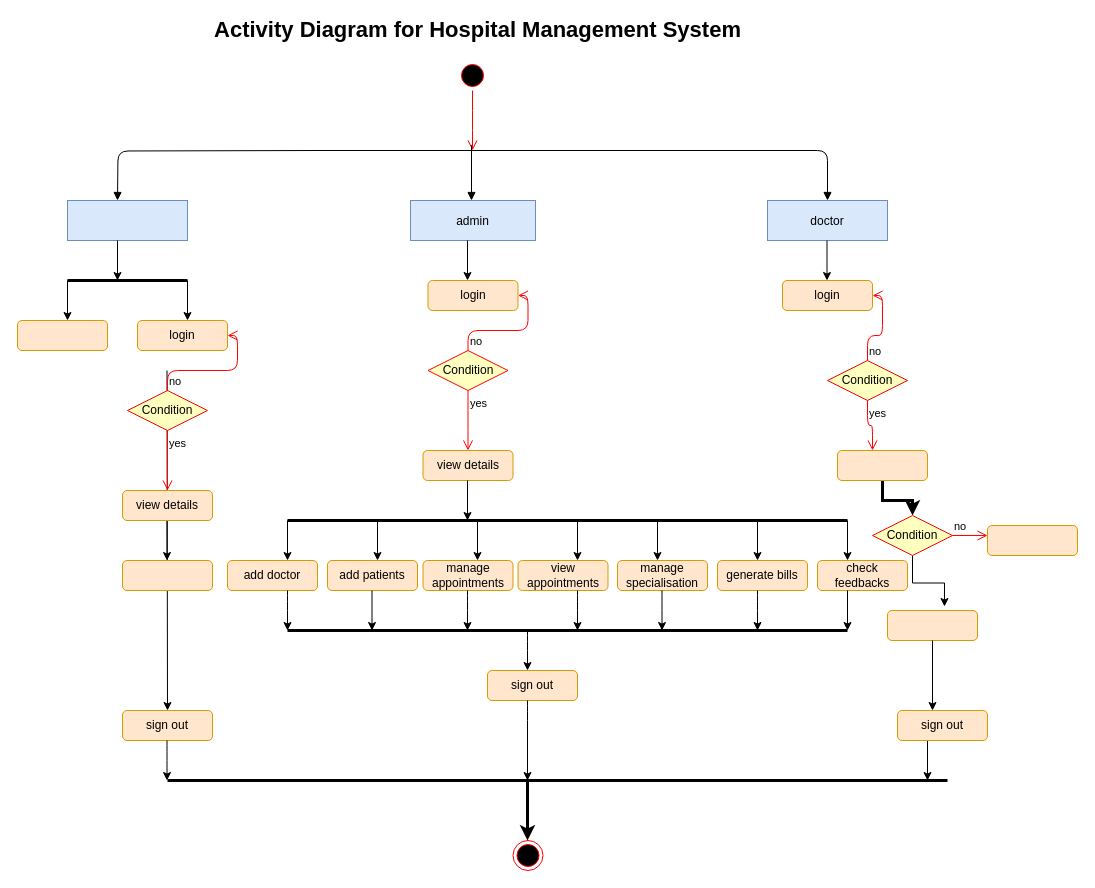
Image size: 1095x888. Some labels were removed from this diagram. The shapes that lost their labels are listed below. From the top down, each one's centre as x and y in pixels, then its label:
pixel 127 220: patient
pixel 62 335: r e gist er
pixel 882 465: view apointments
pixel 1032 540: cancel
pixel 167 575: book appointment
pixel 932 625: attend
